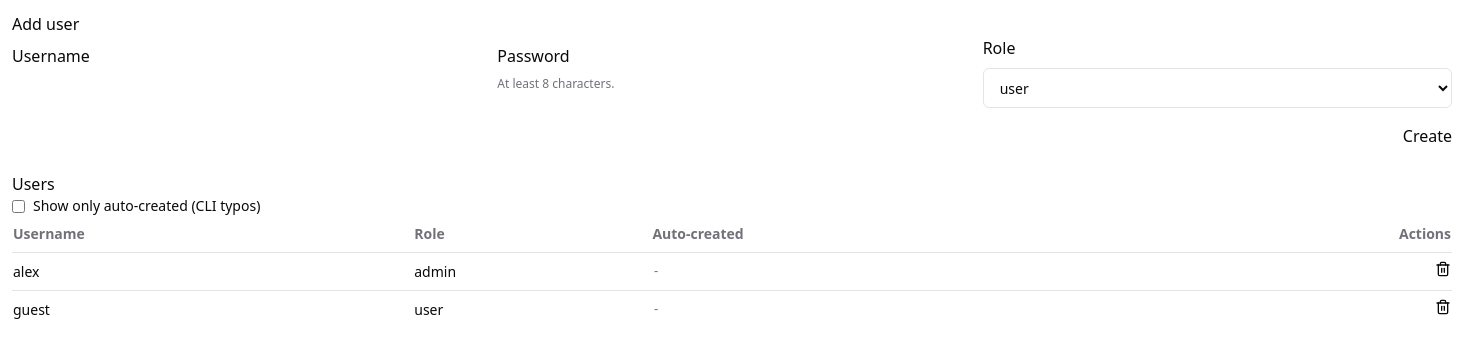
Test: UserList › surfaces backend validation errors in the alert
Check: the text "alex" is shown, box [12, 252, 413, 290]
Type "newbie" into the field labelled "Username".
click(205, 56); type("newbie")  # box [90, 44, 321, 68]
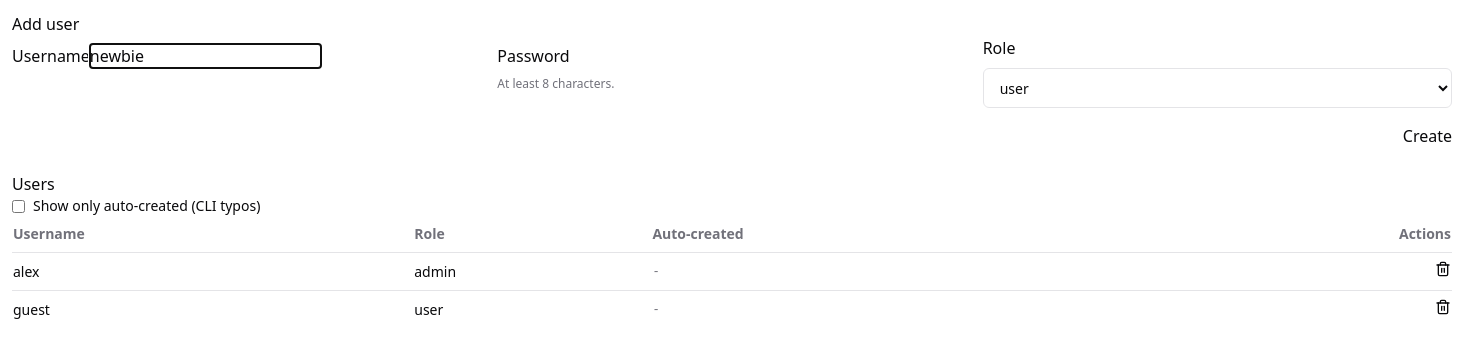
Type "abcdefgh" into the password field labelled "Password".
click(685, 56); type("abcdefgh")  # box [570, 44, 801, 68]
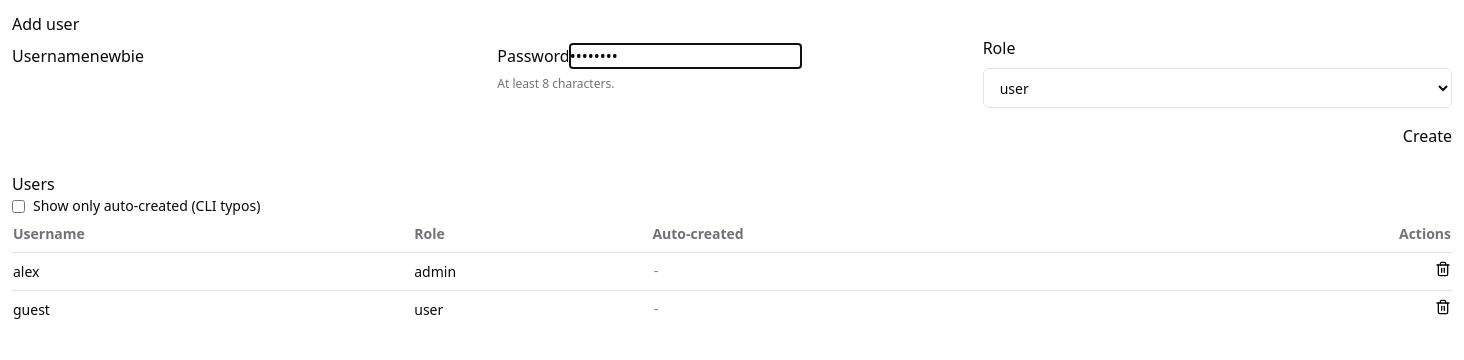
Click the button "Create".
click(1427, 136)  # box [1403, 124, 1452, 148]
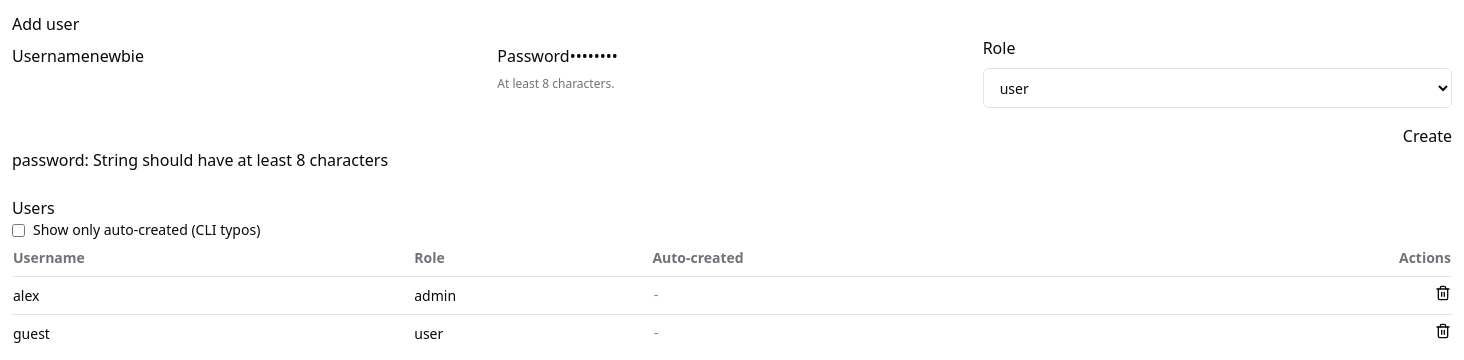
Check: the text "password: String should have at least 8 characters" is shown, box [12, 149, 388, 171]
